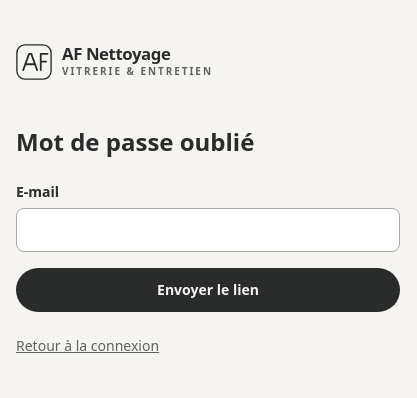
Test: Mot de passe oublié › signale la limite d'envoi
The image size is (417, 398).
Type "adel@example.fr" into the field labelled "E-mail".
click(208, 230); type("adel@example.fr")  # box [16,208,400,252]
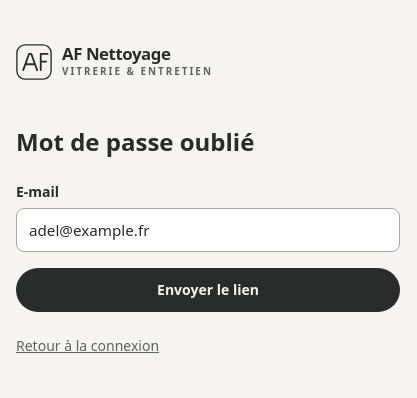
Click the button "Envoyer le lien".
click(208, 290)  # box [16,268,400,312]
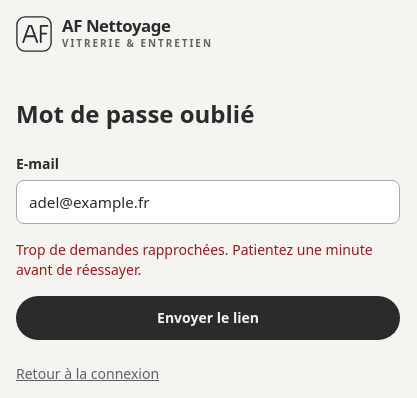
Expected: the message shows "Patientez une minute", [16,240,373,279]
